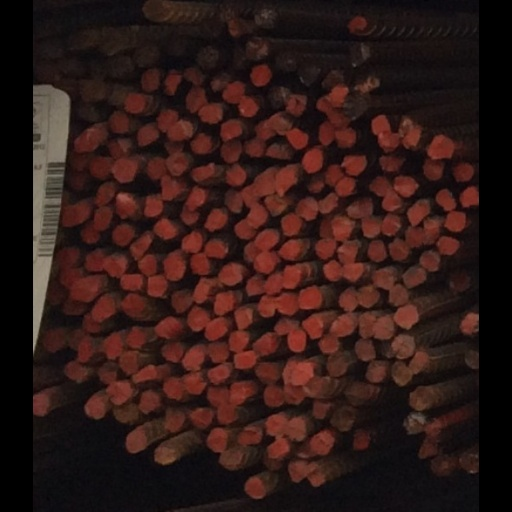dipstick: (40, 26, 75, 52), (92, 191, 120, 220), (28, 54, 66, 75), (453, 134, 482, 160), (113, 41, 142, 67), (88, 403, 123, 424), (68, 293, 94, 320), (38, 171, 67, 195), (85, 54, 114, 78), (414, 305, 444, 328), (139, 316, 169, 339), (206, 290, 232, 316), (149, 255, 176, 280), (197, 207, 222, 234), (83, 383, 115, 404), (179, 132, 209, 154), (125, 0, 158, 20), (183, 163, 214, 184), (408, 236, 434, 261), (430, 385, 456, 410), (309, 315, 335, 340), (147, 377, 172, 403), (111, 234, 137, 259), (92, 220, 118, 245), (105, 326, 132, 350), (100, 292, 127, 316), (48, 129, 75, 153), (255, 361, 283, 384), (211, 262, 240, 284), (42, 278, 71, 300), (214, 141, 244, 162), (198, 428, 223, 453), (308, 146, 333, 171), (66, 154, 91, 179), (151, 406, 175, 432), (129, 273, 155, 297), (90, 158, 116, 182), (32, 360, 59, 383), (121, 67, 148, 90), (360, 197, 391, 217), (253, 334, 281, 356), (355, 154, 383, 176), (282, 239, 310, 261), (274, 50, 302, 72), (455, 455, 484, 476), (358, 93, 382, 118), (424, 412, 449, 436), (342, 407, 367, 431), (267, 413, 291, 438), (306, 286, 331, 310), (172, 371, 197, 395), (178, 252, 203, 276), (58, 249, 82, 274), (32, 204, 56, 229), (48, 102, 78, 122), (318, 431, 344, 454), (254, 250, 280, 273), (172, 348, 198, 371), (177, 305, 200, 331), (79, 333, 102, 359), (156, 288, 182, 311), (245, 37, 271, 60), (293, 460, 320, 482), (105, 431, 132, 453), (184, 277, 206, 304), (281, 167, 303, 194), (199, 341, 227, 362), (86, 136, 114, 157), (397, 154, 429, 172), (268, 141, 300, 159), (87, 111, 111, 135), (69, 206, 93, 230), (390, 266, 415, 289), (291, 417, 314, 442), (263, 385, 288, 408), (471, 210, 497, 232), (256, 229, 282, 251), (58, 397, 84, 419), (253, 6, 279, 28), (187, 46, 213, 68), (147, 69, 169, 95), (10, 329, 36, 351), (52, 80, 82, 99), (414, 175, 441, 196), (200, 363, 227, 384), (100, 272, 127, 293), (218, 81, 245, 102), (151, 154, 178, 175), (176, 86, 197, 113), (341, 315, 369, 335), (114, 365, 142, 385), (413, 334, 437, 357), (281, 293, 305, 316), (302, 196, 326, 219), (284, 212, 308, 235), (197, 317, 220, 341), (148, 340, 172, 363), (55, 311, 79, 334), (256, 170, 280, 193), (249, 62, 272, 86), (220, 163, 244, 186), (80, 256, 104, 279), (268, 114, 297, 133), (190, 20, 219, 39), (461, 188, 486, 210), (373, 285, 398, 307), (330, 260, 355, 282), (179, 408, 204, 430), (120, 391, 145, 413), (364, 42, 386, 67), (130, 155, 152, 180), (424, 265, 450, 286), (490, 310, 511, 336), (326, 193, 352, 214), (225, 330, 251, 351), (138, 444, 164, 465), (199, 384, 226, 404), (28, 267, 56, 286), (383, 238, 406, 261), (292, 330, 315, 353), (142, 109, 165, 132), (71, 182, 94, 205), (78, 29, 101, 52), (370, 338, 394, 360), (380, 360, 404, 382), (298, 363, 322, 385), (231, 306, 253, 330), (100, 351, 122, 375), (197, 238, 221, 260), (172, 229, 194, 253), (218, 188, 240, 212), (481, 161, 506, 182), (168, 204, 193, 225), (173, 65, 198, 86), (104, 93, 129, 114), (52, 222, 77, 243), (387, 175, 413, 195), (374, 216, 400, 236), (314, 461, 334, 487), (213, 451, 239, 471), (230, 220, 256, 240), (50, 336, 70, 362), (429, 200, 452, 222), (365, 429, 388, 451), (358, 383, 380, 406), (329, 333, 351, 356), (147, 175, 169, 198), (153, 33, 175, 56), (448, 159, 472, 180), (427, 225, 451, 246), (443, 249, 467, 270), (478, 270, 502, 291), (391, 316, 415, 337), (490, 451, 511, 475), (287, 383, 311, 404), (324, 238, 348, 259), (243, 274, 267, 295), (270, 85, 291, 109), (178, 185, 199, 209), (155, 121, 179, 142), (464, 235, 489, 255), (351, 285, 371, 310), (242, 477, 267, 497), (267, 439, 292, 459), (304, 65, 329, 85), (355, 262, 381, 281), (373, 312, 392, 338), (278, 316, 304, 335), (190, 104, 216, 123), (1, 390, 18, 419), (337, 355, 359, 377), (293, 126, 315, 148), (401, 192, 424, 213), (413, 361, 434, 384), (210, 404, 233, 425), (345, 219, 368, 240), (75, 362, 98, 383), (120, 125, 143, 146), (408, 283, 432, 303), (286, 265, 306, 289), (139, 219, 163, 239), (228, 351, 256, 368), (284, 359, 303, 384), (346, 128, 371, 147), (33, 296, 58, 315), (215, 120, 241, 138), (397, 129, 418, 151), (399, 214, 421, 235), (246, 205, 268, 226), (243, 138, 265, 159), (126, 195, 148, 216), (350, 242, 373, 262), (292, 94, 315, 114), (40, 149, 63, 169), (235, 427, 262, 444), (27, 249, 54, 266), (347, 176, 371, 195), (225, 382, 245, 404), (267, 272, 287, 294), (39, 330, 61, 350), (234, 95, 256, 115), (432, 350, 451, 373), (263, 452, 286, 471), (221, 19, 244, 38), (259, 296, 280, 316), (314, 173, 334, 194), (122, 255, 143, 275), (267, 195, 288, 215), (322, 94, 343, 114), (336, 164, 355, 186), (342, 85, 361, 107), (330, 121, 347, 145), (490, 187, 510, 207), (256, 119, 277, 138), (360, 15, 382, 33), (329, 216, 347, 238), (342, 110, 364, 128), (334, 70, 356, 88), (203, 73, 225, 91), (148, 139, 174, 154), (301, 443, 325, 459), (443, 440, 464, 458), (448, 219, 463, 244), (387, 115, 409, 132), (450, 424, 469, 443), (425, 128, 442, 149), (419, 116, 436, 135), (314, 378, 331, 397), (496, 348, 512, 368), (241, 241, 256, 262), (383, 74, 398, 88)
